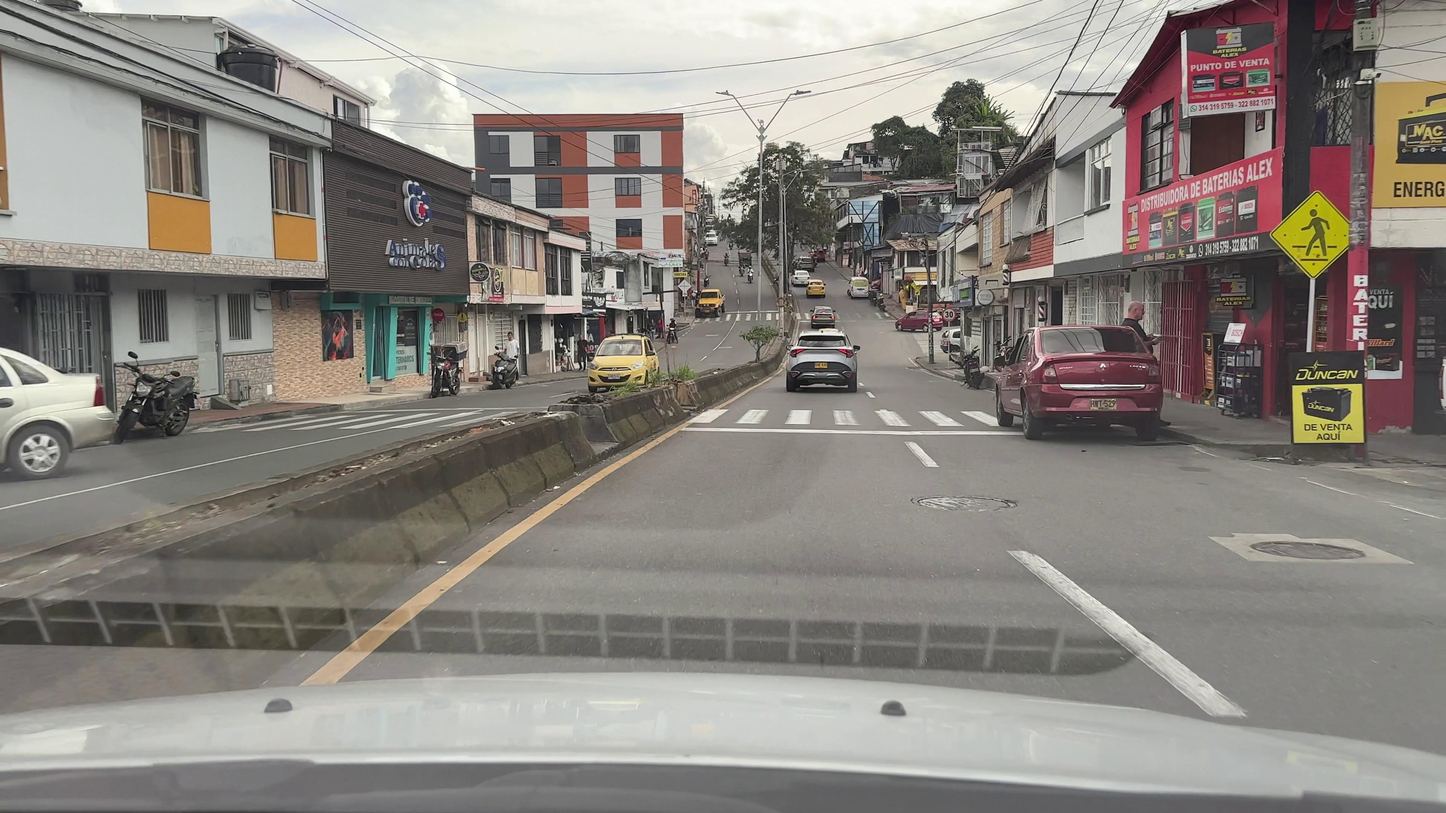registro: (1252, 541, 1365, 559), (912, 495, 1017, 512)
rejilla: (1250, 457, 1327, 466)
